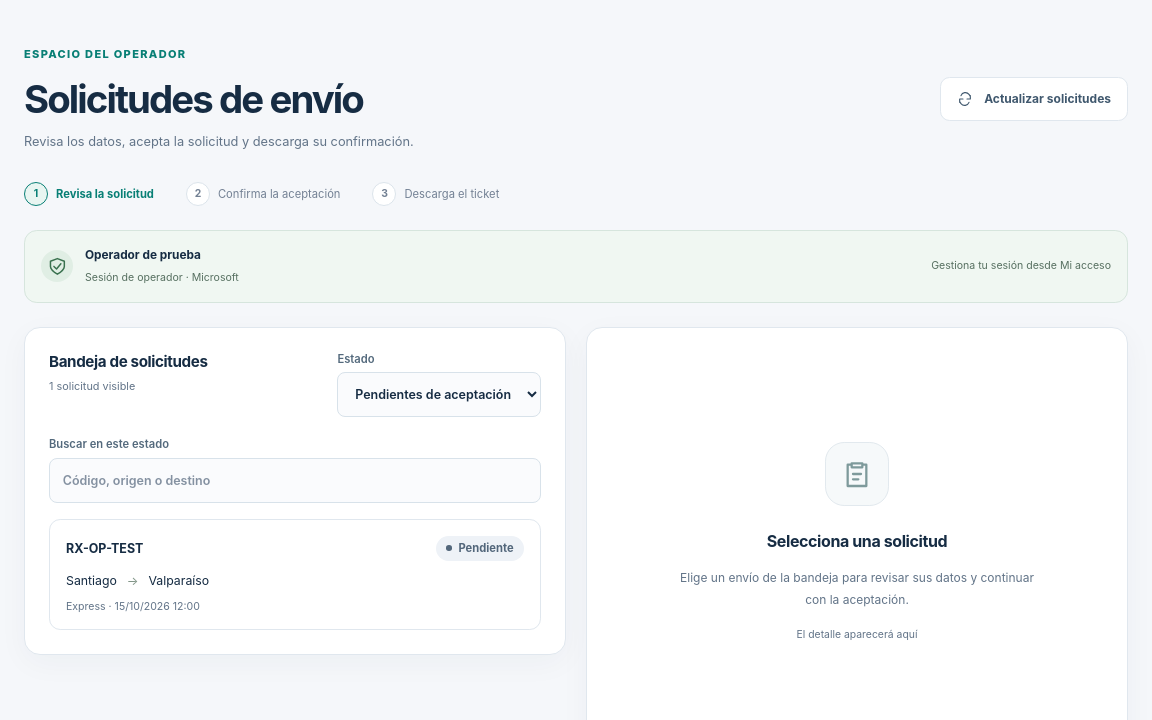
Test: Operator workflow › no confunde un error HTTP 401 con una bandeja vacía
The width and height of the screenshot is (1152, 720).
Click the button with class "secondary". click: (1034, 99)
box: [940,77,1128,121]
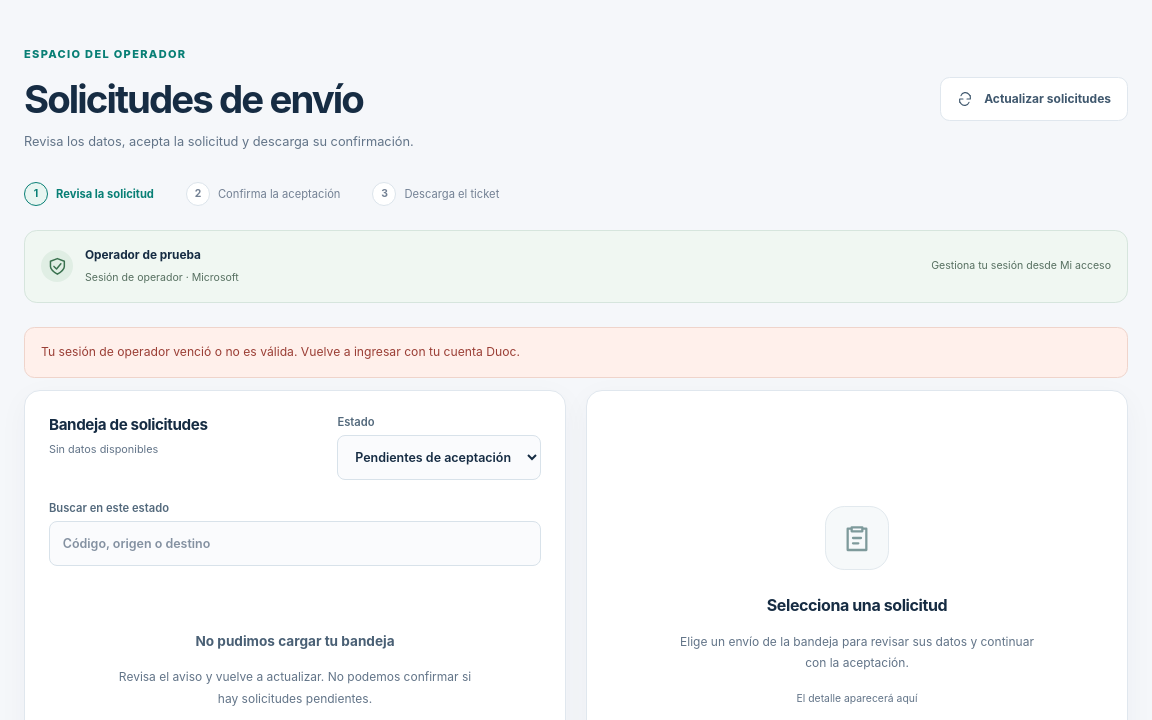
Now the text "No pudimos cargar tu bandeja" is shown, box [195,633,395,649]
Now the button with class "request" is gone
